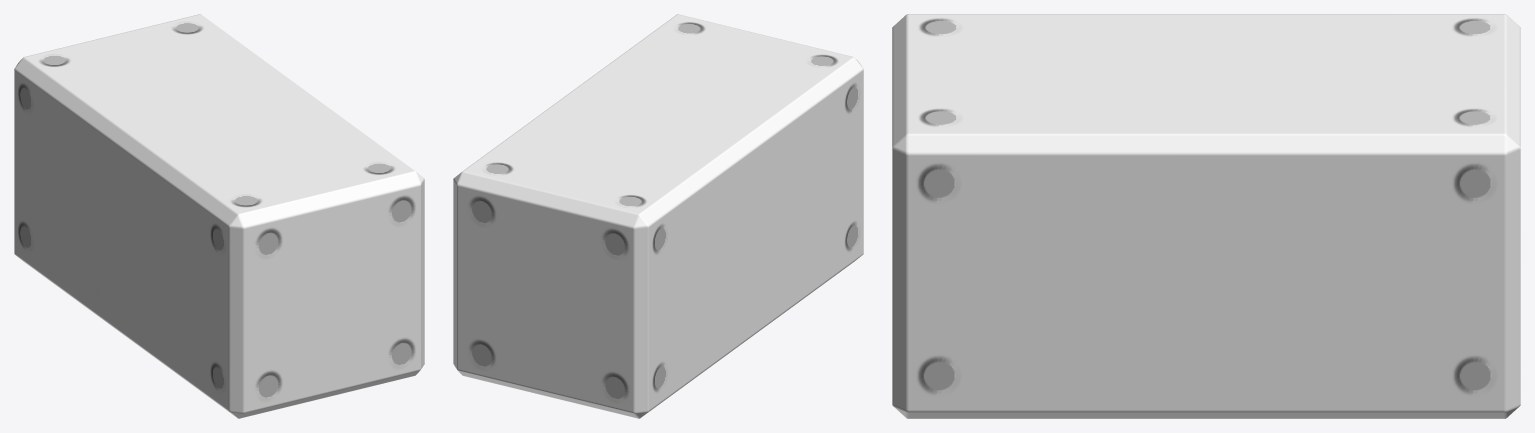
File: Brick.fbx
3 views of the same model, side by side, from view 1: azimuth 30°, elevation 25°; view 2: azimuth 150°, elevation 25°; view 3: azimuth 270°, elevation 25° (orthographic). The views are drawn at different scales.
Parts seen in each view (by area): view 1: Cube; view 2: Cube; view 3: Cube.
Part boxes in pixels (<box>): Cube: <box>14,14,424,418</box>; Cube: <box>453,14,863,418</box>; Cube: <box>892,14,1520,418</box>.
Size of the model in its own units: 100 by 100 by 200.
